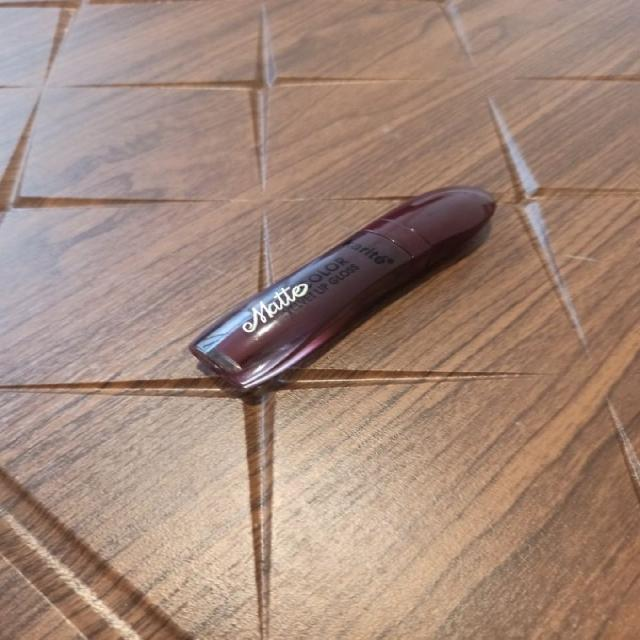lipstick: (186, 184, 496, 393)
